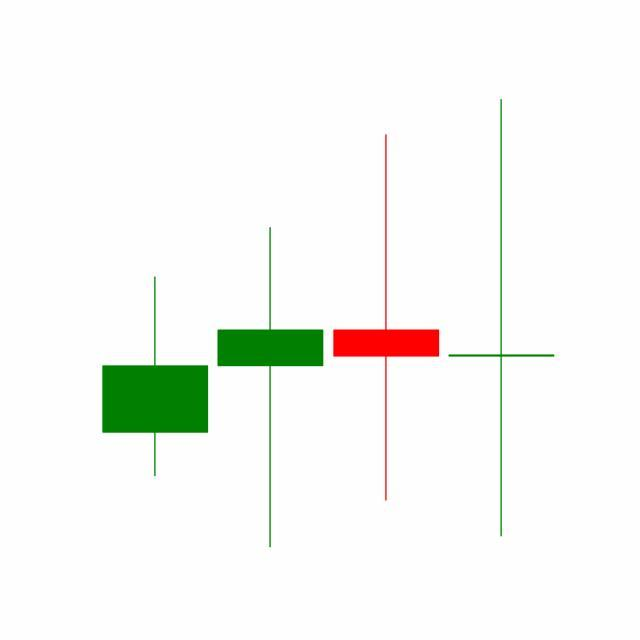Spinning Top: (329, 131, 445, 505)
